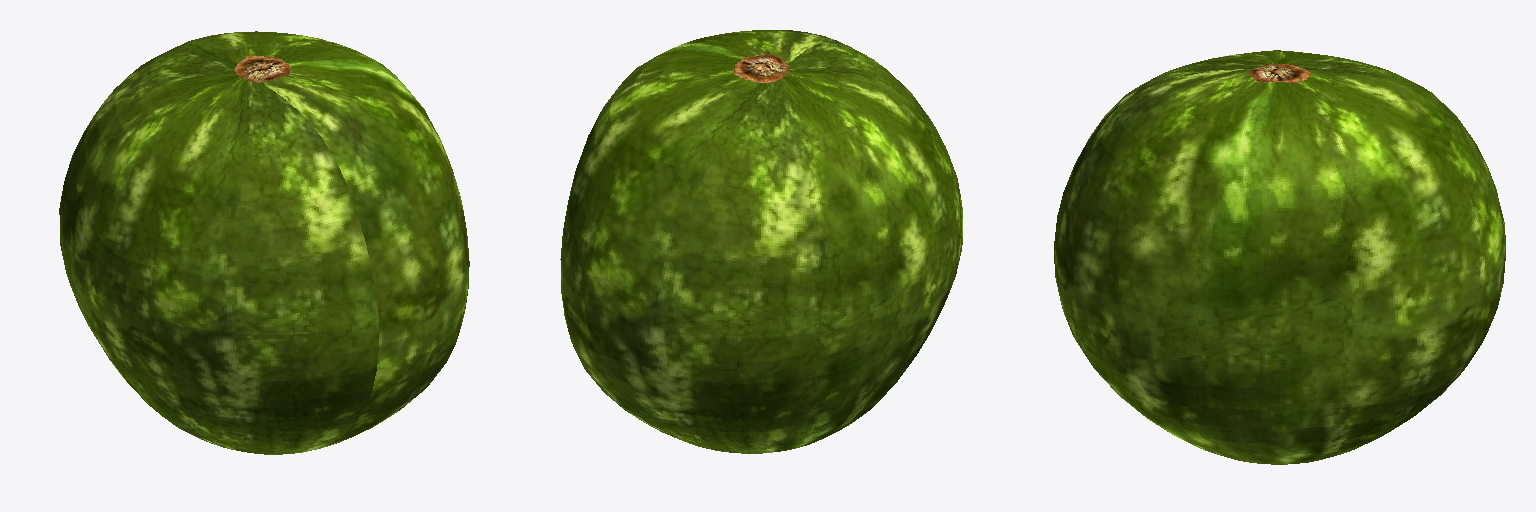
3 renders of one model, left to right at view 1: azimuth 30°, elevation 25°; view 2: azimuth 150°, elevation 25°; view 3: azimuth 270°, elevation 25°, orthographic.
Visible parts, largest first — view 1: Watermelon02, Watermelon_Stem02; view 2: Watermelon02, Watermelon_Stem02; view 3: Watermelon02, Watermelon_Stem02.
Part boxes in pixels (x1,y1,x2,y2): Watermelon02: (59, 31, 469, 454); Watermelon_Stem02: (234, 56, 291, 82); Watermelon02: (560, 30, 962, 453); Watermelon_Stem02: (733, 53, 789, 83); Watermelon02: (1054, 50, 1505, 464); Watermelon_Stem02: (1249, 64, 1310, 82).
Bounding box in the file's own units: 53.41 × 58.46 × 63.55.
2 materials, 2 textured.